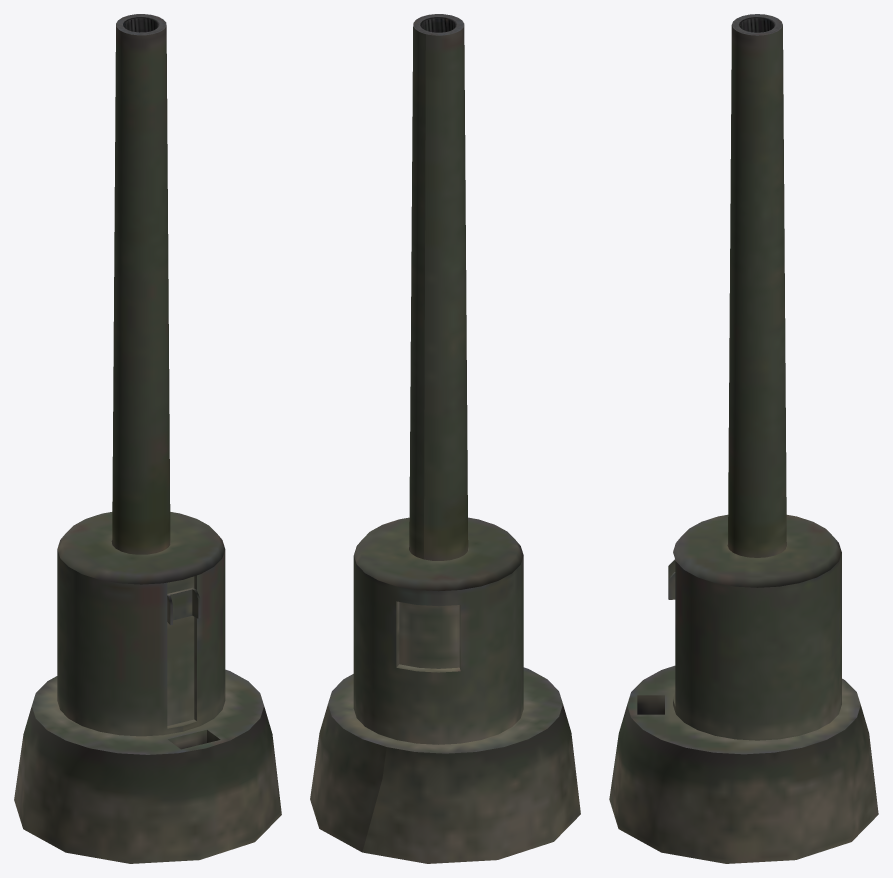
Rendered from Gun_01.glb.
3 renders of one model, left to right at view 1: azimuth 30°, elevation 25°; view 2: azimuth 150°, elevation 25°; view 3: azimuth 270°, elevation 25°, orthographic.
Visible parts, largest first — view 1: set_0_group_0; view 2: set_0_group_0; view 3: set_0_group_0.
Part boxes in pixels (x1,y1,x2,y2): set_0_group_0: (14, 14, 281, 863); set_0_group_0: (310, 14, 580, 863); set_0_group_0: (609, 14, 878, 863).
Bounding box in the file's own units: 0.2925 × 0.9374 × 0.2925.
Materials: 1 (1 with a texture image).
